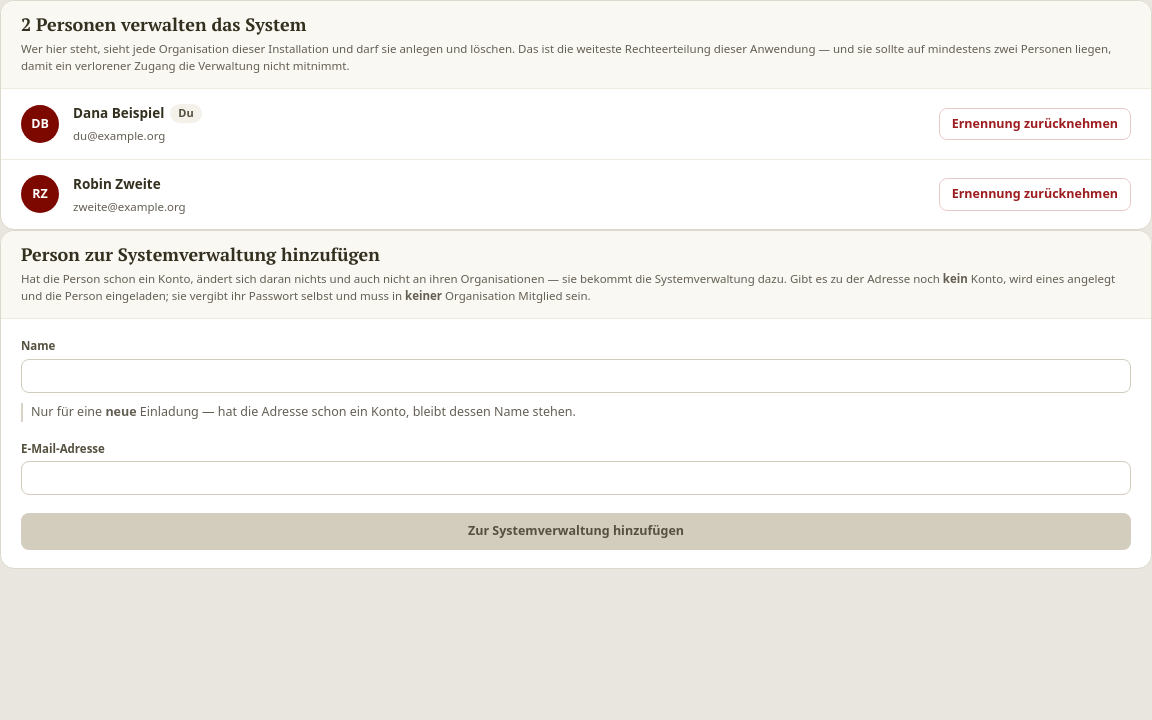
der Reiter „Superadmins" › fragt vor dem Entzug nach — mit zwei Sätzen für zwei Fälle
expect the text "Dana Beispiel" is shown: met, box [73,103,164,124]
Click the button with aria-label "Ernennung von Dana Beispiel zurücknehmen". click: coordinates (1035, 124)
box: [939,108,1131,140]
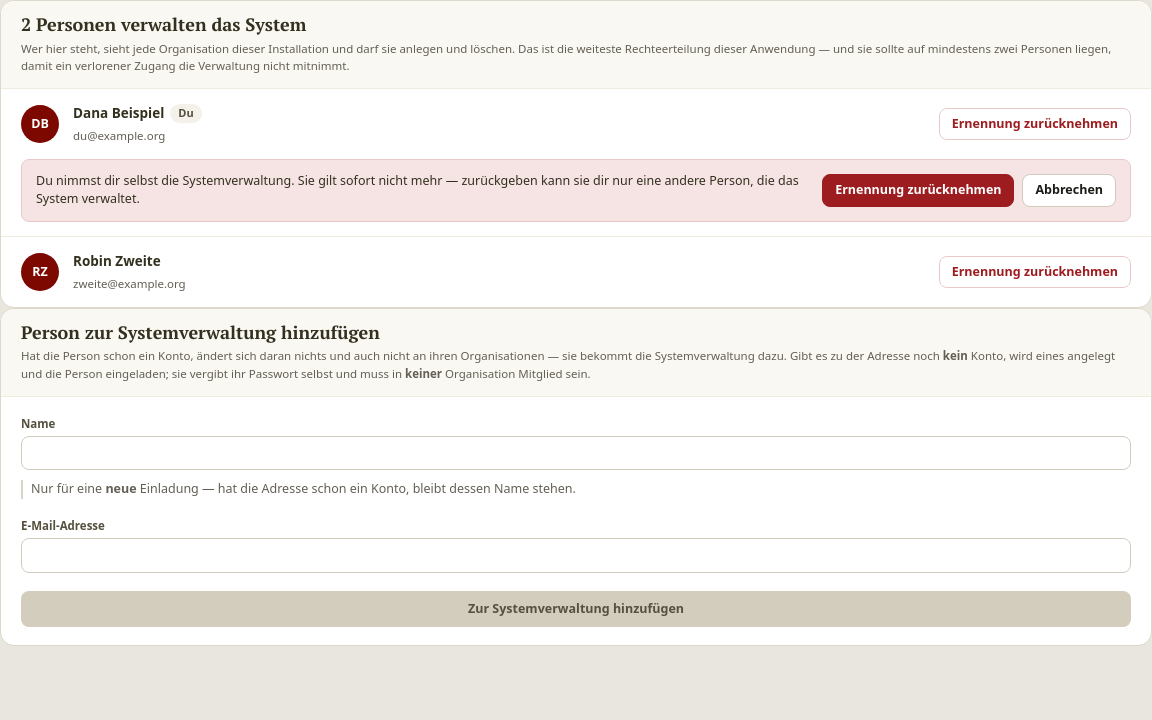
expect the text "Du nimmst dir selbst die Systemverwaltung" is shown: met, box [36,172,799,208]
Click the button "Abbrechen". click: coordinates (1069, 190)
box: [1022,174,1116,207]
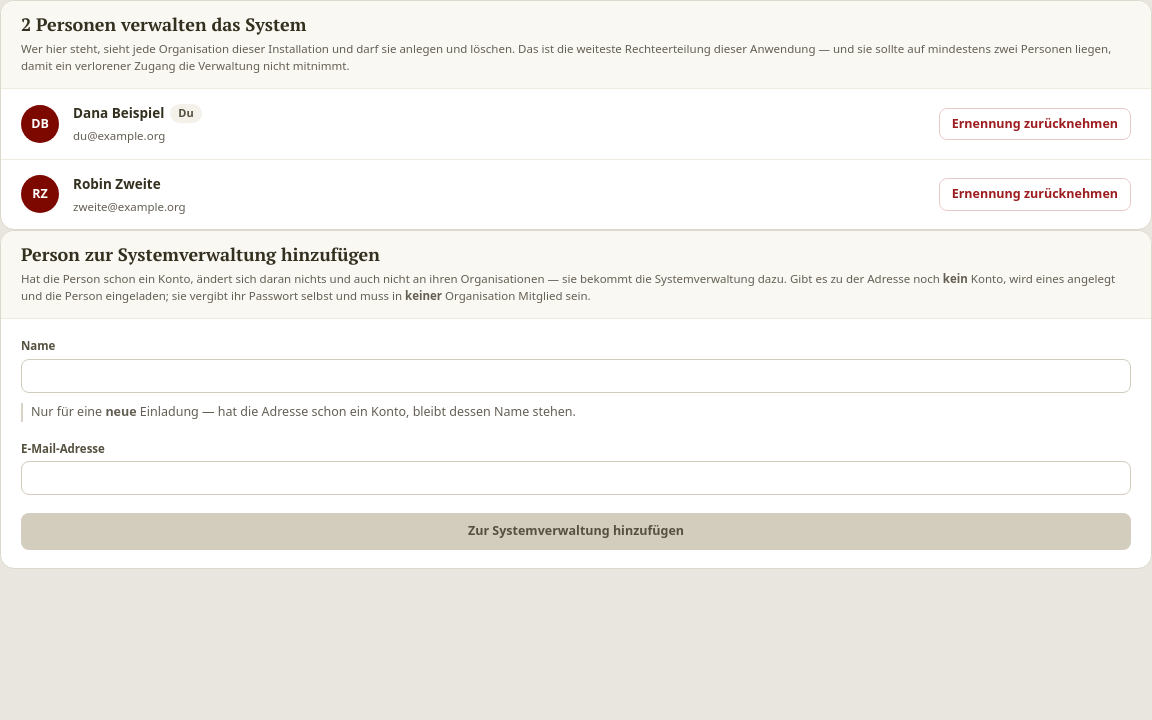
Click the button with aria-label "Ernennung von Robin Zweite zurücknehmen". click: coordinates (1035, 194)
box: [939,178,1131,211]
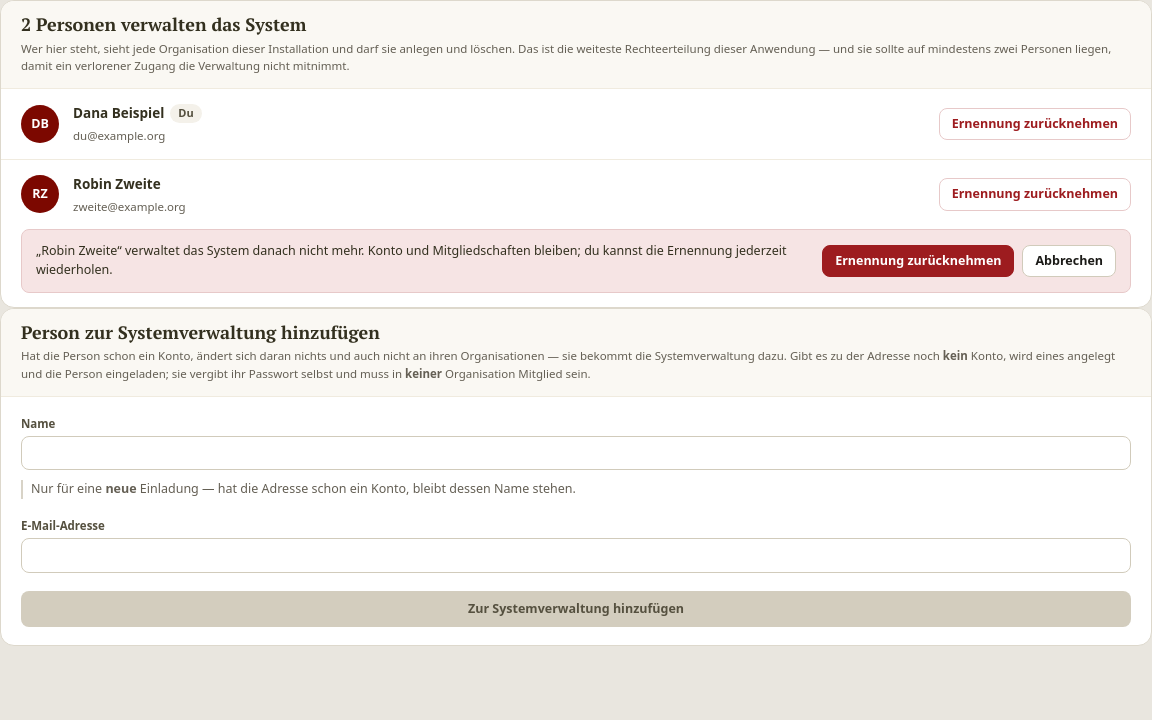
expect the text "„Robin Zweite“ verwaltet das System danach nicht mehr" is shown: met, box [36,242,786,278]
